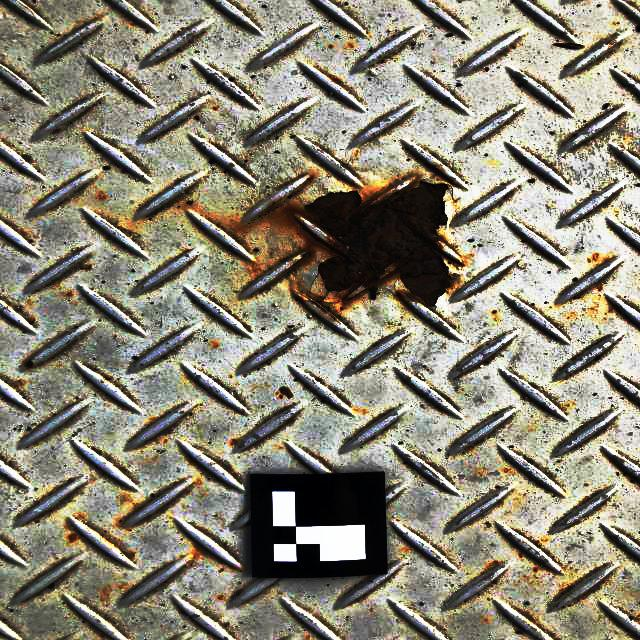Corrosion: (289, 178, 454, 329)
